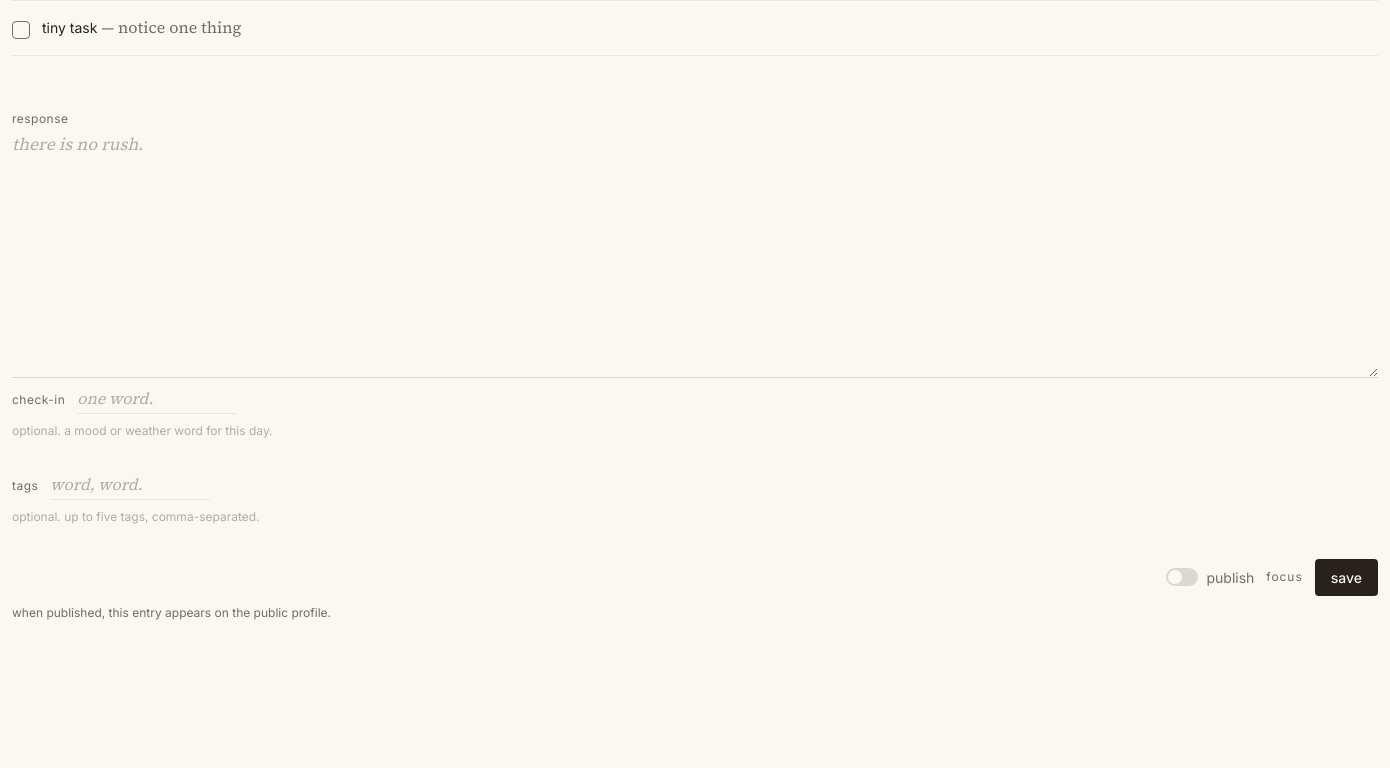
EntrySave — save state › shows "saving." and disables save button during in-flight request
Type "text" into the text box labelled "response" at (695, 254), box top-left (12, 130), bottom-right (1378, 378)
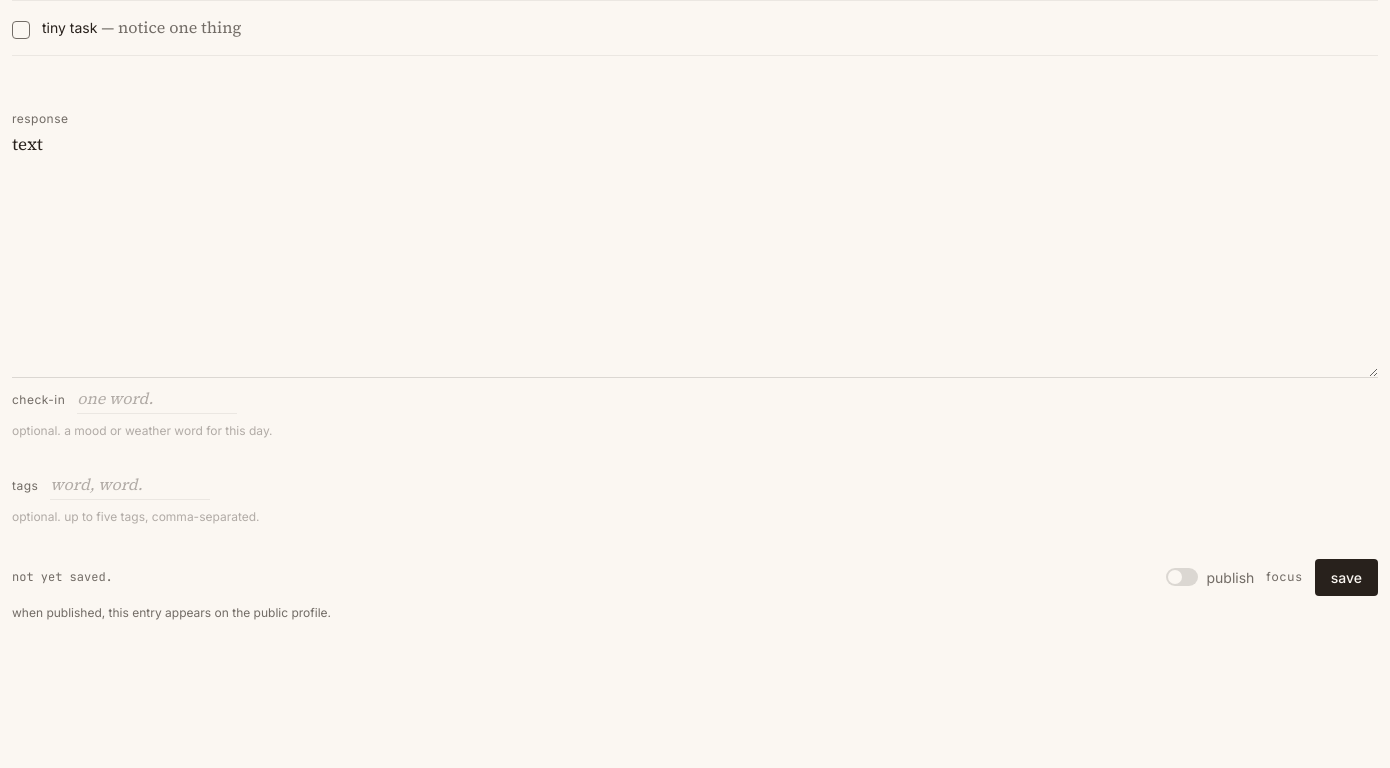
Click the button "save" at (1346, 577), box top-left (1315, 559), bottom-right (1378, 596)
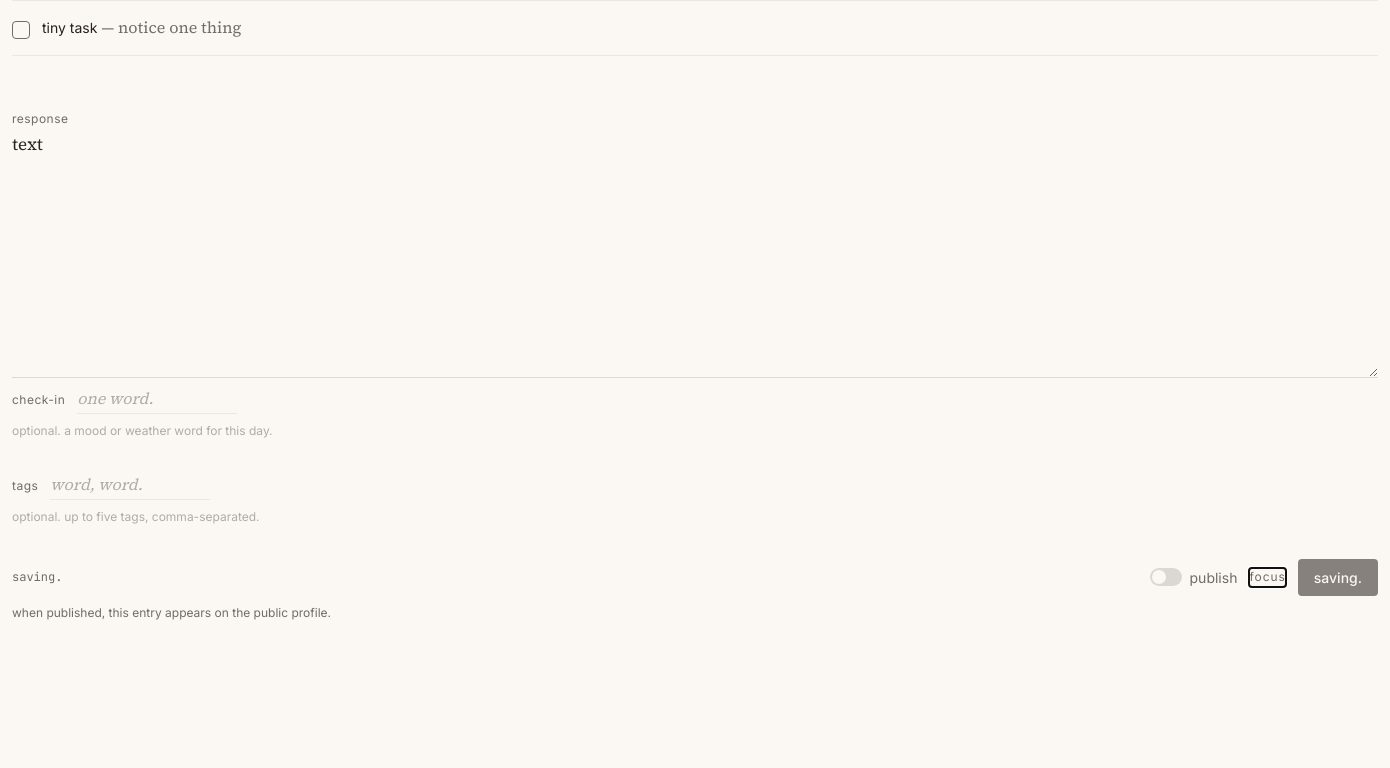
expect the button "saving." is disabled: met, box top-left (1298, 559), bottom-right (1378, 596)
